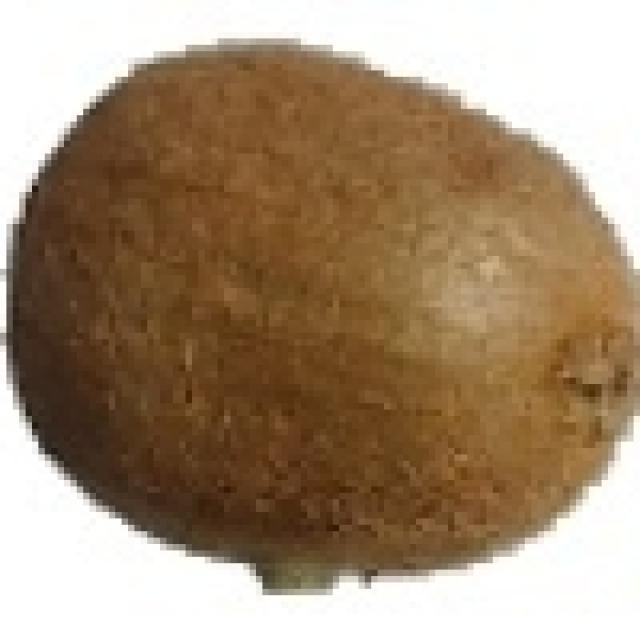kiwi: (26, 38, 640, 576)
